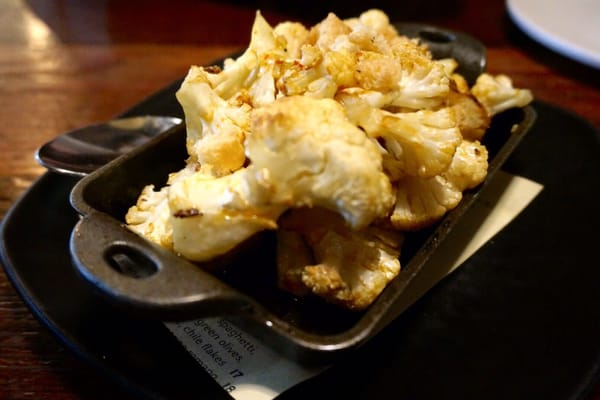sushi: (12, 5, 549, 361)
